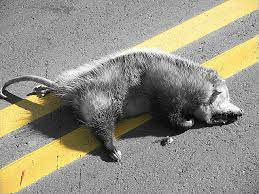opossum: (29, 50, 243, 159)
